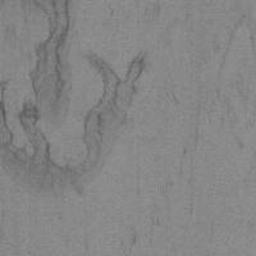Water spot: (0, 0, 151, 206)
